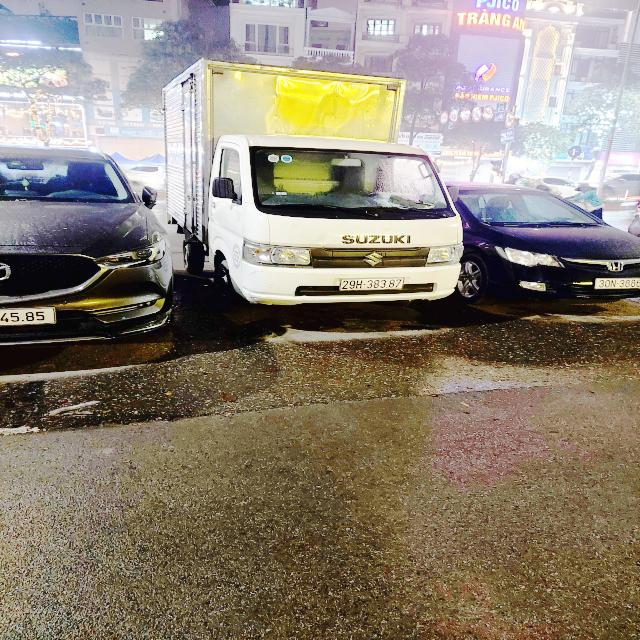license_plate: (336, 277, 408, 293)
